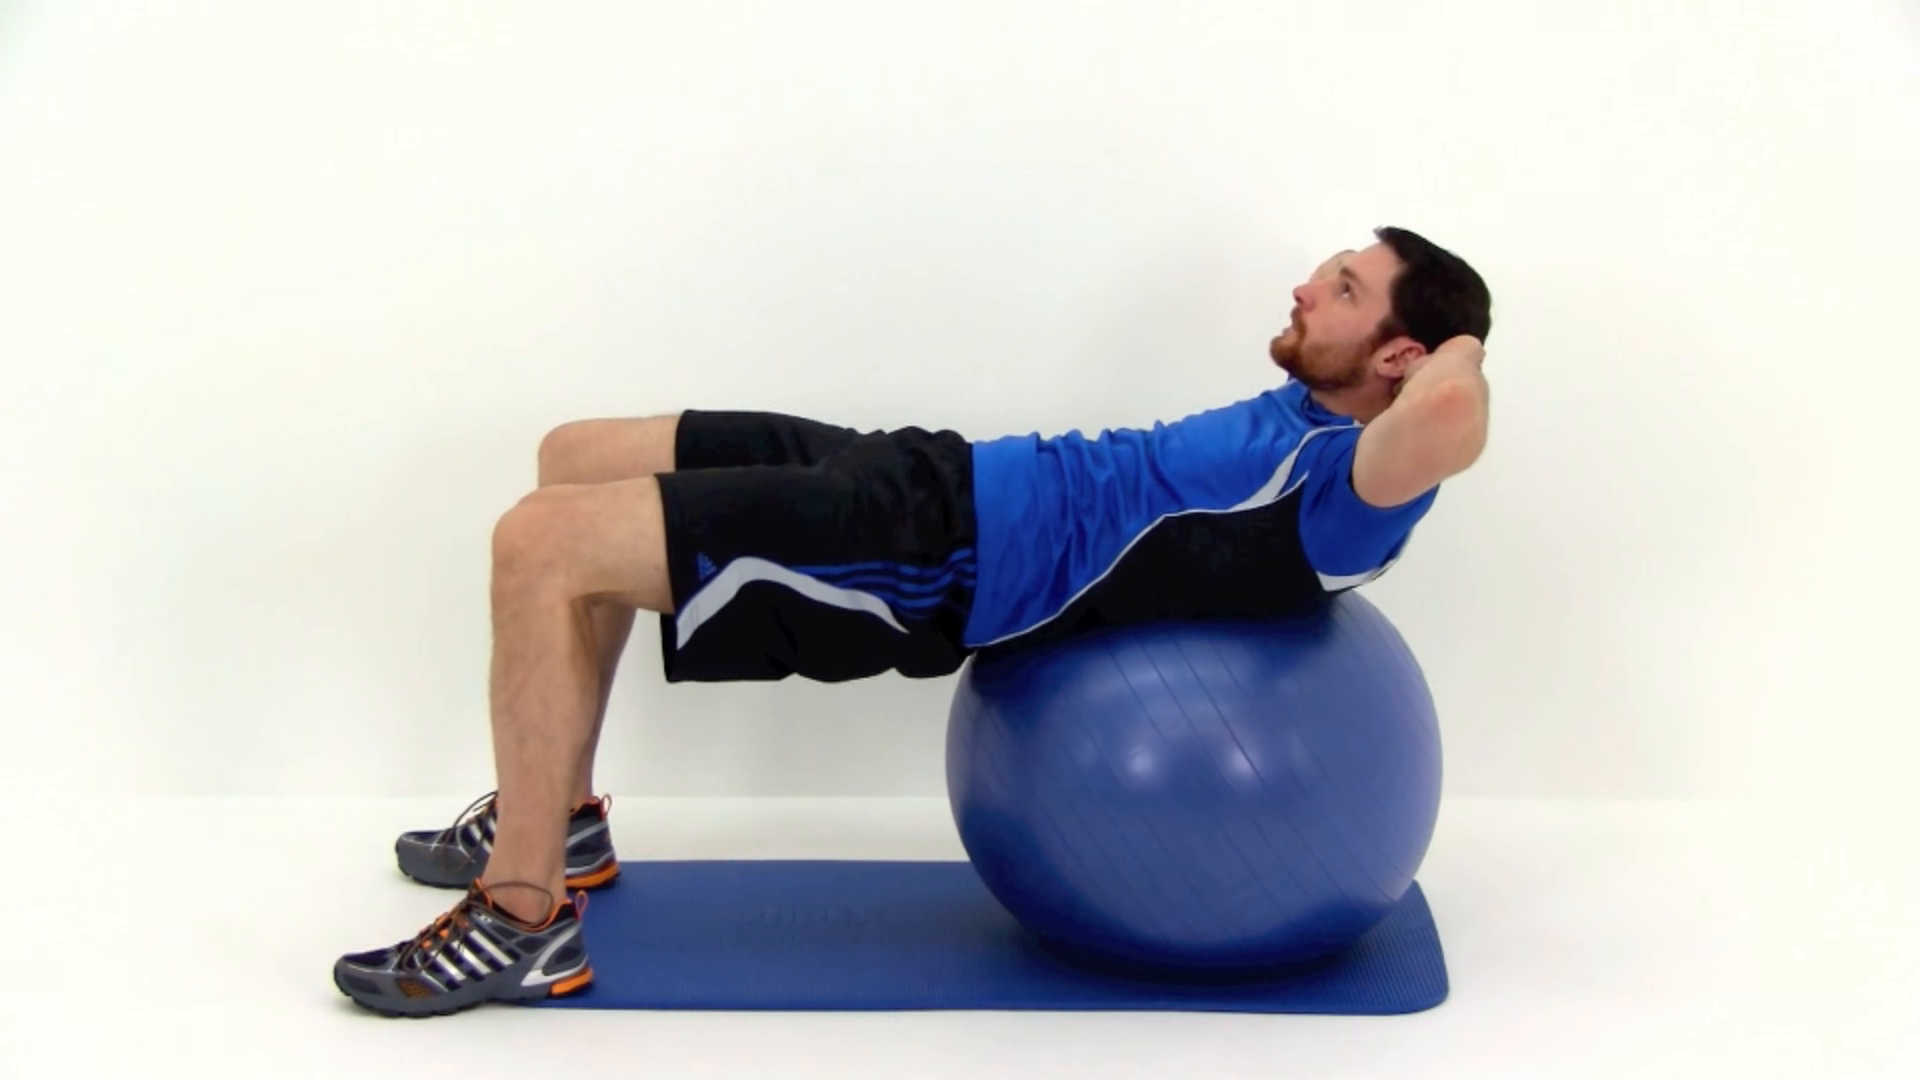yogaball: (930, 574, 1455, 1004)
